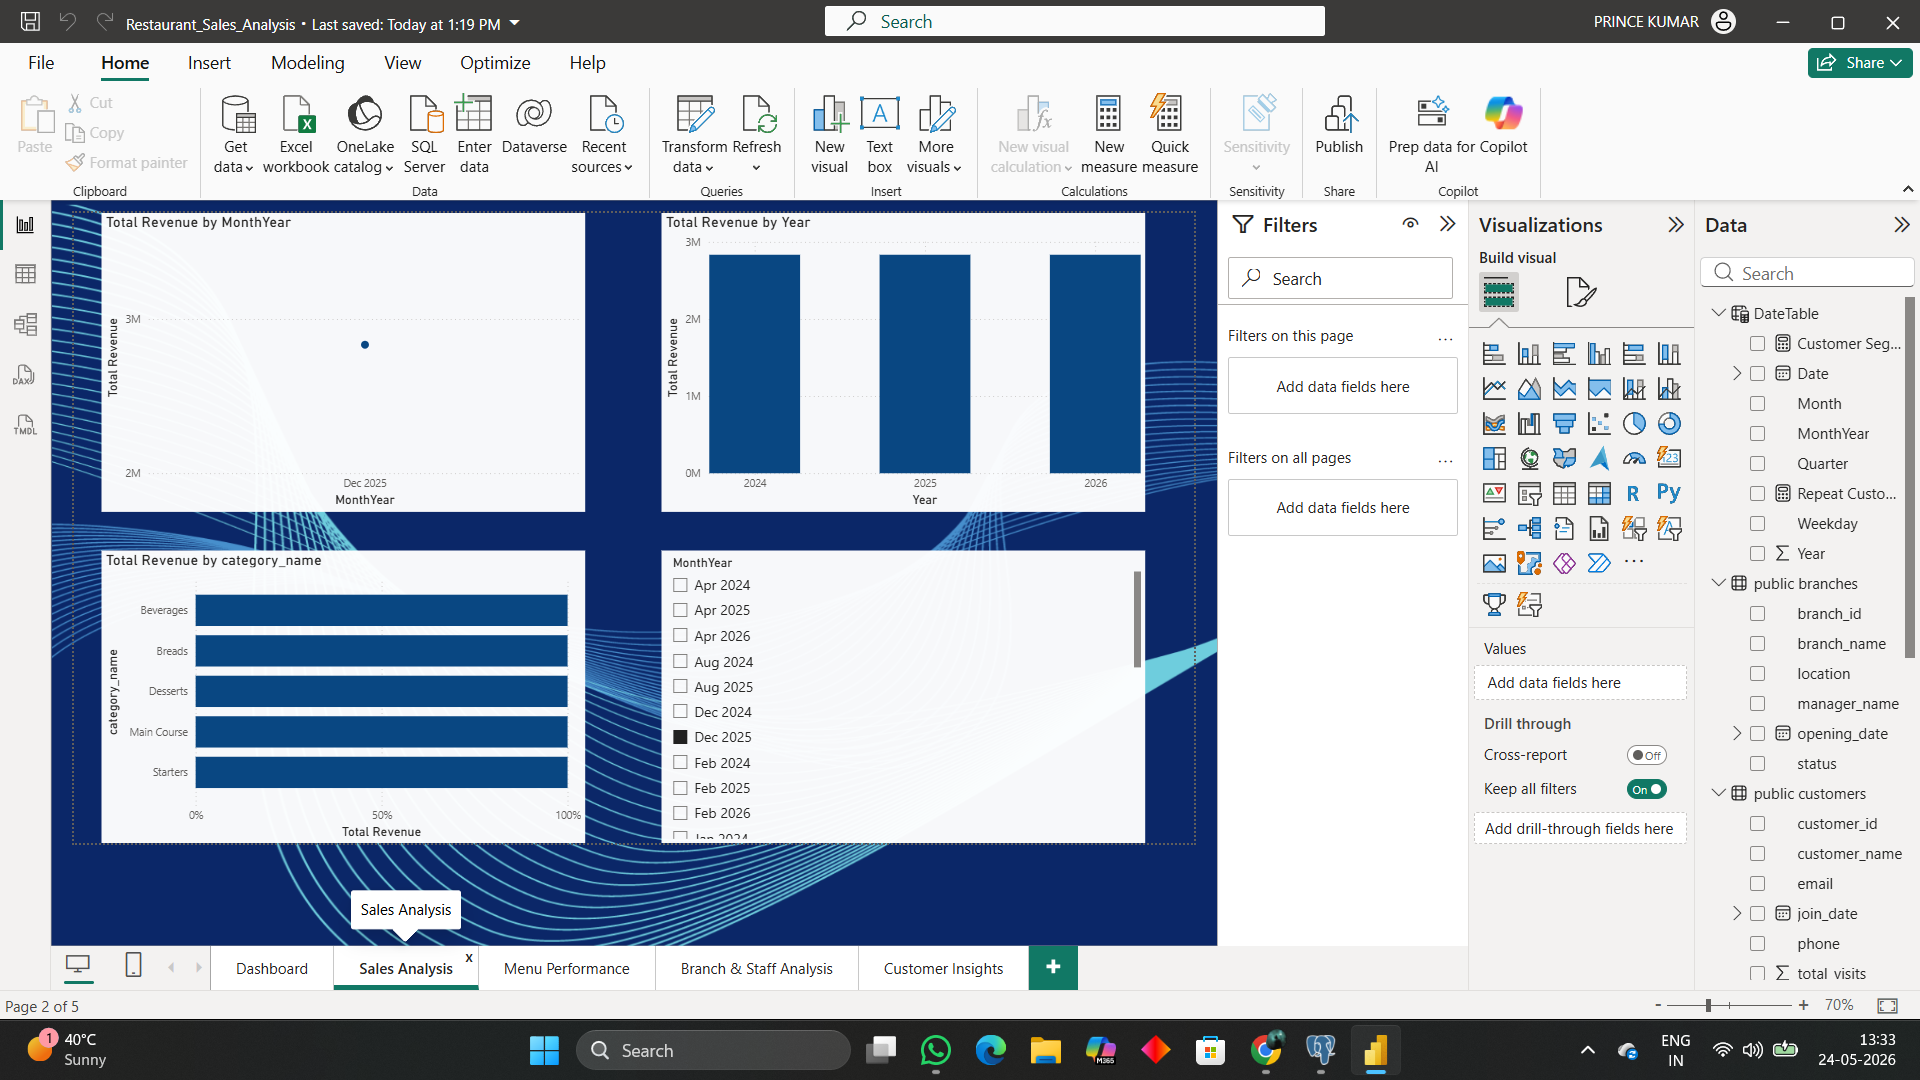

What the dashboard file says about the page in this screenshot:
{"tool":"powerbi","page":{"name":"Sales Analysis","canvas":[1280,720],"ordinal":1},"visuals":[{"type":"lineChart","fields":{"Category":["DateTable.MonthYear"],"Y":["public sales.Total Revenue"]},"box":[31.4,0,552.9,341.4],"z":0},{"type":"columnChart","fields":{"Category":["DateTable.Date.Variation.Date Hierarchy.Year","DateTable.Date.Variation.Date Hierarchy.Quarter","DateTable.Date.Variation.Date Hierarchy.Month","DateTable.Date.Variation.Date Hierarchy.Day"],"Y":["public sales.Total Revenue"]},"box":[671.4,0,552.9,341.4],"z":1000},{"type":"hundredPercentStackedBarChart","fields":{"Category":["public menu_categories.category_name"],"Y":["public sales.Total Revenue"]},"box":[31.4,385.7,552.9,334.3],"z":2000},{"type":"slicer","fields":{"Values":["DateTable.MonthYear"]},"box":[671.4,385.7,552.9,334.3],"z":3000}]}

Visuals, with their boxes on the page's 1280x720 design canvas (x1, y1, x2, y2). These are canvas units, not pixel positions in the 1920x1080 screenshot, which may show the page scaled, cropped or inside an application window:
lineChart - DateTable.MonthYear x public sales.Total Revenue: <box>31,0,584,341</box>
columnChart - DateTable.Date.Variation.Date Hierarchy.Year x DateTable.Date.Variation.Date Hierarchy.Quarter: <box>671,0,1224,341</box>
hundredPercentStackedBarChart - public menu_categories.category_name x public sales.Total Revenue: <box>31,386,584,720</box>
slicer - DateTable.MonthYear: <box>671,386,1224,720</box>
